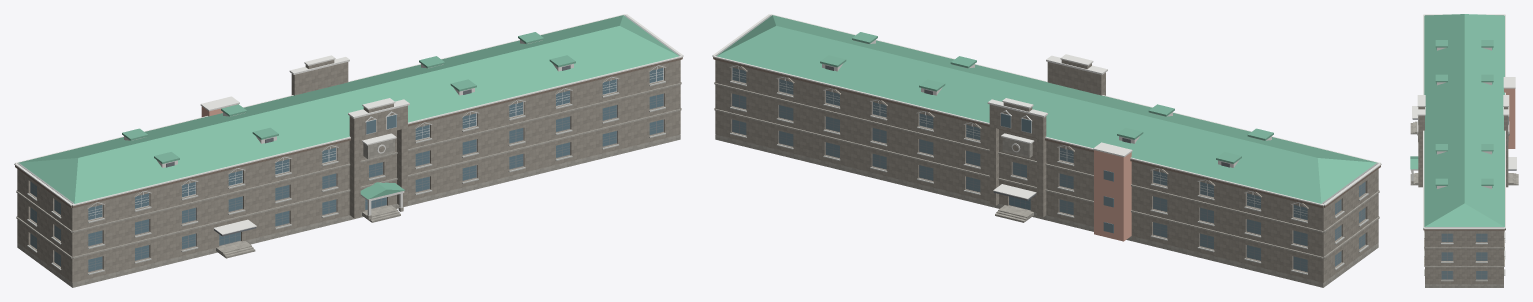
3 renders of one model, left to right at view 1: azimuth 30°, elevation 25°; view 2: azimuth 150°, elevation 25°; view 3: azimuth 270°, elevation 25°, orthographic. The views are drawn at different scales.
Visible parts, largest first — view 1: gugwan__hallstone, gugwan__greenroof, gugwan__stone, gugwan__glass, gugwan__cap, gugwan__frame, gugwan__cornice, gugwan__sill, gugwan__whiteframe, gugwan__panel, gugwan__sideglass; view 2: gugwan__hallstone, gugwan__greenroof, gugwan__stone, gugwan__sideglass, gugwan__cap, gugwan__coral, gugwan__frame, gugwan__cornice, gugwan__sill, gugwan__whiteframe, gugwan__glass; view 3: gugwan__greenroof, gugwan__hallstone, gugwan__cap, gugwan__stone, gugwan__sideglass, gugwan__coral, gugwan__frame, gugwan__panel, gugwan__sill, gugwan__cornice, gugwan__stair-south-front, gugwan__roof (+2 smaller).
Part boxes in pixels (x1,y1,x2,y2): gugwan__hallstone: (17,60,680,282); gugwan__greenroof: (18,15,679,203); gugwan__stone: (16,82,681,287); gugwan__glass: (88,68,663,271); gugwan__cap: (14,14,683,234); gugwan__frame: (30,93,663,272); gugwan__cornice: (15,57,682,207); gugwan__sill: (27,81,665,274); gugwan__whiteframe: (88,65,665,220); gugwan__panel: (124,40,573,215); gugwan__sideglass: (30,182,60,266); gugwan__hallstone: (715,60,1378,282); gugwan__greenroof: (716,15,1377,203); gugwan__stone: (714,82,1379,287); gugwan__sideglass: (732,68,1365,271); gugwan__cap: (712,14,1381,205); gugwan__coral: (1094,150,1131,241); gugwan__frame: (732,93,1365,272); gugwan__cornice: (713,57,1380,207); gugwan__sill: (730,81,1368,274); gugwan__whiteframe: (730,65,1307,220); gugwan__glass: (1001,113,1031,209); gugwan__greenroof: (1410,14,1504,227); gugwan__hallstone: (1417,107,1509,284); gugwan__cap: (1412,14,1516,229); gugwan__stone: (1411,133,1508,287); gugwan__sideglass: (1442,233,1487,279); gugwan__coral: (1504,88,1515,148); gugwan__frame: (1441,233,1487,279); gugwan__panel: (1410,47,1491,188); gugwan__sill: (1424,232,1505,281); gugwan__cornice: (1423,229,1505,230); gugwan__stair-south-front: (1410,121,1417,134); gugwan__roof: (1425,15,1503,227).
Size of the model in its own units: 86.68 by 15.17 by 18.47.
Materials: 15 (2 with a texture image).
